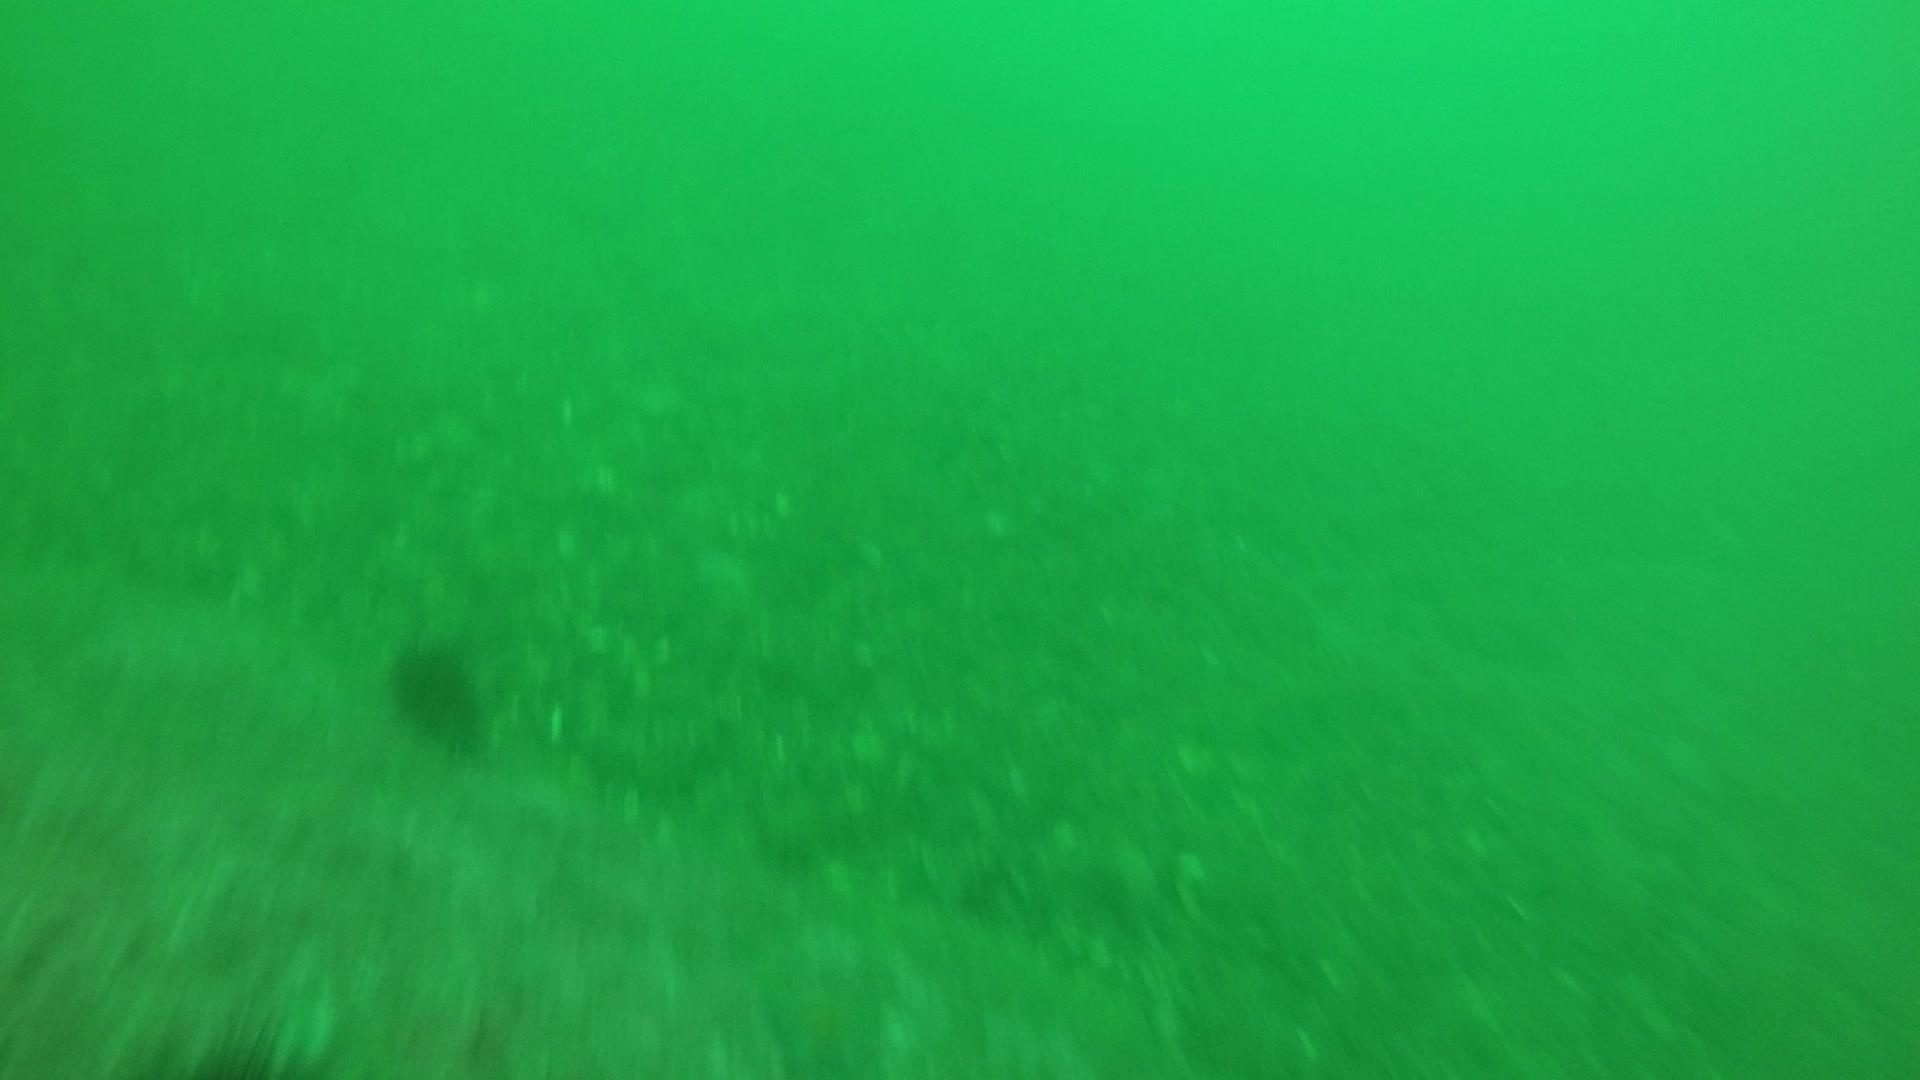echinus: (382, 636, 487, 745)
starfish: (758, 960, 895, 1080)
